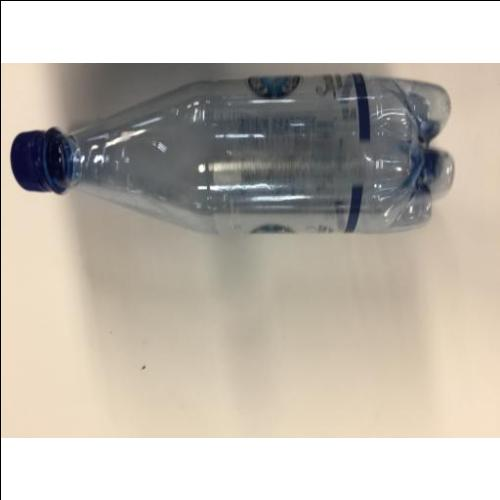plastic: (9, 75, 454, 234)
